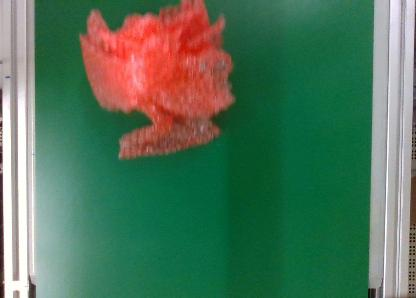Others: (79, 2, 237, 160)
